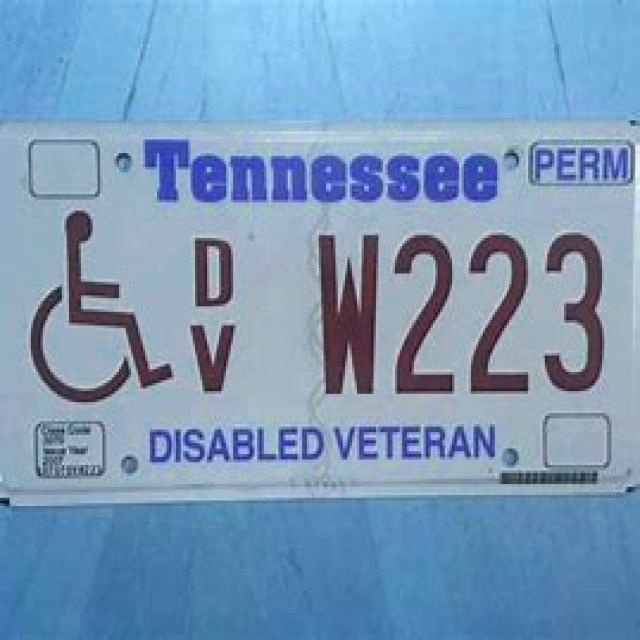ISA: (28, 208, 175, 408)
